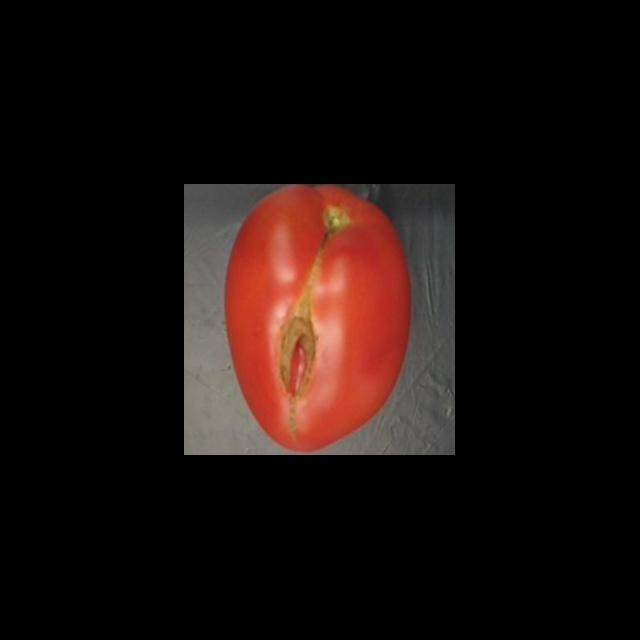tomato: (218, 185, 416, 456)
